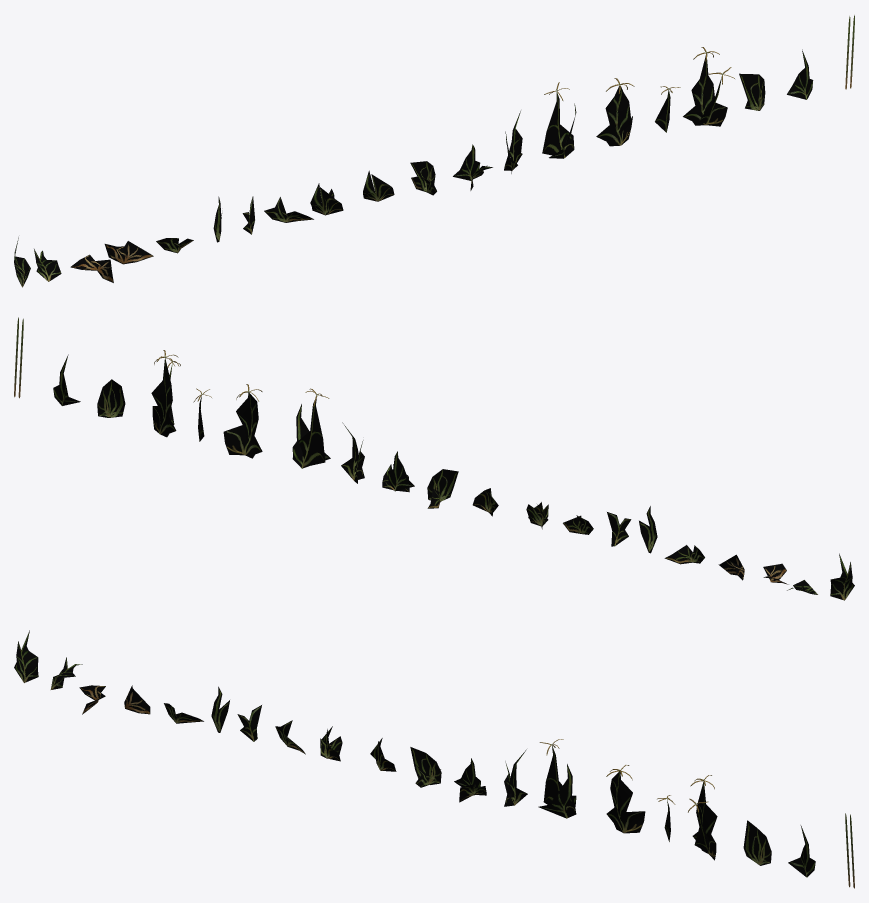
The model's file is grass_bermuda_01_2k.fbx.
The picture shows the model from 3 angles, top to bottom: view 1: azimuth 30°, elevation 25°; view 2: azimuth 150°, elevation 25°; view 3: azimuth 330°, elevation 25°; orthographic projection.
Parts seen in each view (by area): view 1: grass_bermuda_01_seedling_d, grass_bermuda_01_seedling_b, grass_bermuda_01_seedling_a, grass_bermuda_01_medium_b, grass_bermuda_01_dead_b, grass_bermuda_01_medium_c, grass_bermuda_01_small_c, grass_bermuda_01_small_d, grass_bermuda_01_medium_e, grass_bermuda_01_dead_a, grass_bermuda_01_medium_d, grass_bermuda_01_medium_f; view 2: grass_bermuda_01_seedling_b, grass_bermuda_01_seedling_a, grass_bermuda_01_seedling_d, grass_bermuda_01_medium_b, grass_bermuda_01_medium_c, grass_bermuda_01_medium_e, grass_bermuda_01_medium_a, grass_bermuda_01_medium_f; view 3: grass_bermuda_01_seedling_a, grass_bermuda_01_seedling_b, grass_bermuda_01_seedling_d, grass_bermuda_01_medium_b, grass_bermuda_01_medium_c, grass_bermuda_01_medium_a, grass_bermuda_01_medium_e, grass_bermuda_01_medium_f, grass_bermuda_01_medium_d.
Boxes of the visible parts, x1,y1,x2,y2 form: grass_bermuda_01_seedling_d: (683, 47, 734, 126); grass_bermuda_01_seedling_b: (596, 78, 634, 146); grass_bermuda_01_seedling_a: (542, 82, 576, 158); grass_bermuda_01_medium_b: (739, 73, 765, 110); grass_bermuda_01_dead_b: (104, 241, 153, 264); grass_bermuda_01_medium_c: (410, 161, 436, 195); grass_bermuda_01_small_c: (310, 183, 343, 215); grass_bermuda_01_small_d: (363, 170, 394, 201); grass_bermuda_01_medium_e: (453, 144, 492, 190); grass_bermuda_01_dead_a: (70, 254, 113, 282); grass_bermuda_01_medium_d: (787, 49, 813, 99); grass_bermuda_01_medium_f: (504, 111, 522, 173); grass_bermuda_01_seedling_b: (223, 384, 262, 458); grass_bermuda_01_seedling_a: (292, 388, 330, 468); grass_bermuda_01_seedling_d: (151, 350, 180, 437); grass_bermuda_01_medium_b: (97, 379, 125, 417); grass_bermuda_01_medium_c: (427, 469, 458, 508); grass_bermuda_01_medium_e: (382, 451, 414, 492); grass_bermuda_01_medium_a: (830, 553, 854, 600); grass_bermuda_01_medium_f: (341, 422, 364, 483); grass_bermuda_01_seedling_a: (538, 739, 576, 818); grass_bermuda_01_seedling_b: (606, 765, 645, 833); grass_bermuda_01_seedling_d: (688, 775, 717, 860); grass_bermuda_01_medium_b: (743, 820, 771, 865); grass_bermuda_01_medium_c: (410, 747, 441, 787); grass_bermuda_01_medium_a: (14, 630, 38, 682); grass_bermuda_01_medium_e: (454, 758, 486, 802); grass_bermuda_01_medium_f: (504, 749, 527, 806); grass_bermuda_01_medium_d: (788, 825, 815, 877).
Size of the model in its own units: 169 by 15.83 by 14.22.
